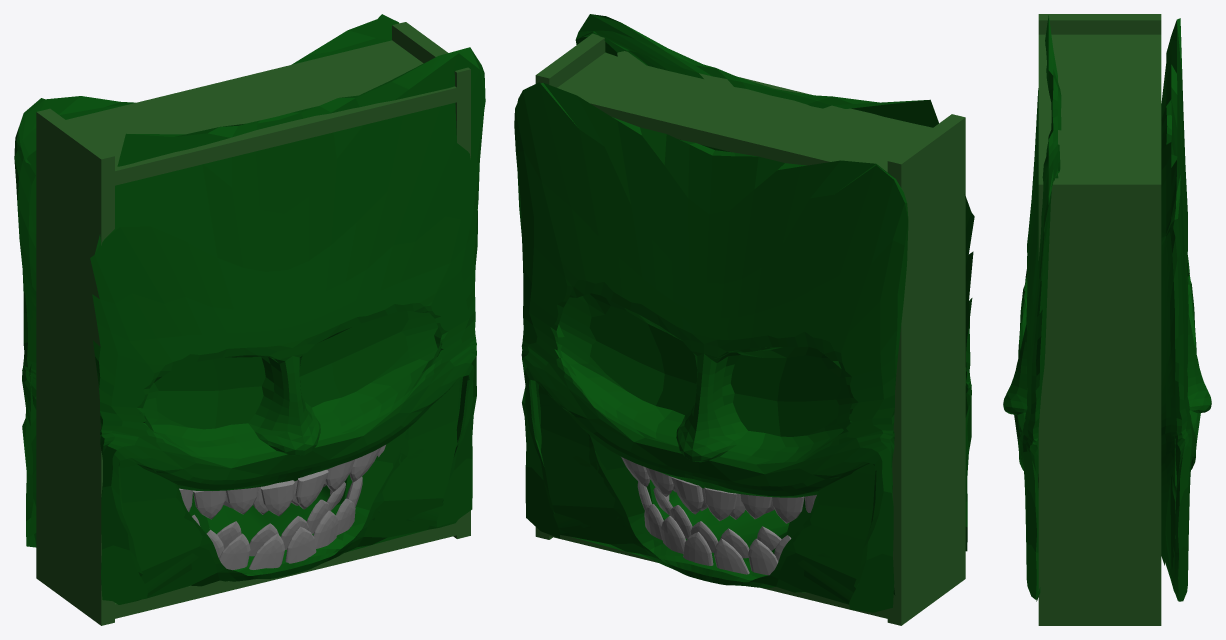
The model's file is brycedoor.fbx.
3 renders of one model, left to right at view 1: azimuth 30°, elevation 25°; view 2: azimuth 150°, elevation 25°; view 3: azimuth 270°, elevation 25°, orthographic. The views are drawn at different scales.
Parts seen in each view (by area): view 1: HeadMesh.001, Cube.001, HeadMesh.002; view 2: HeadMesh.001, Cube.001, HeadMesh.002; view 3: Cube.001, HeadMesh.001, HeadMesh.002.
Part boxes in pixels (box(x1,y1,x2,y2)): HeadMesh.001: box(14, 14, 485, 602); Cube.001: box(36, 22, 470, 625); HeadMesh.002: box(29, 337, 459, 604); HeadMesh.001: box(514, 14, 974, 612); Cube.001: box(535, 33, 965, 625); HeadMesh.002: box(538, 367, 966, 604); Cube.001: box(1038, 14, 1161, 625); HeadMesh.001: box(1003, 15, 1211, 601); HeadMesh.002: box(1026, 277, 1178, 601).
Bounding box in the file's own units: 5.33 × 6.1 × 2.52.
